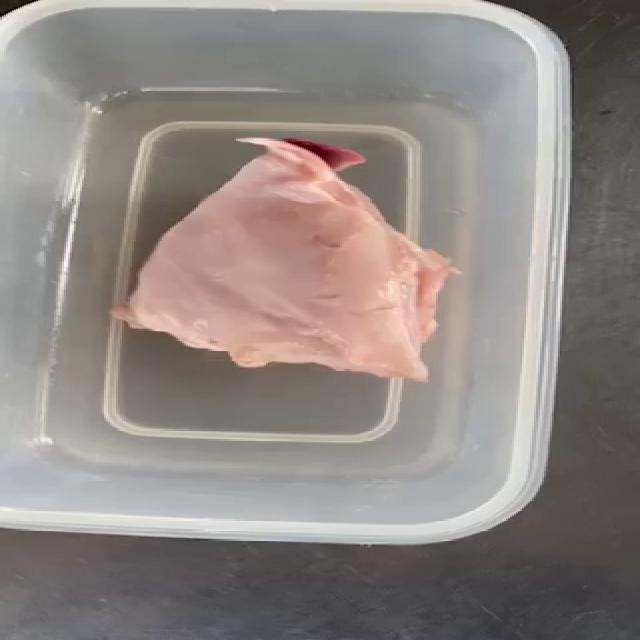chicken: (102, 137, 442, 376)
